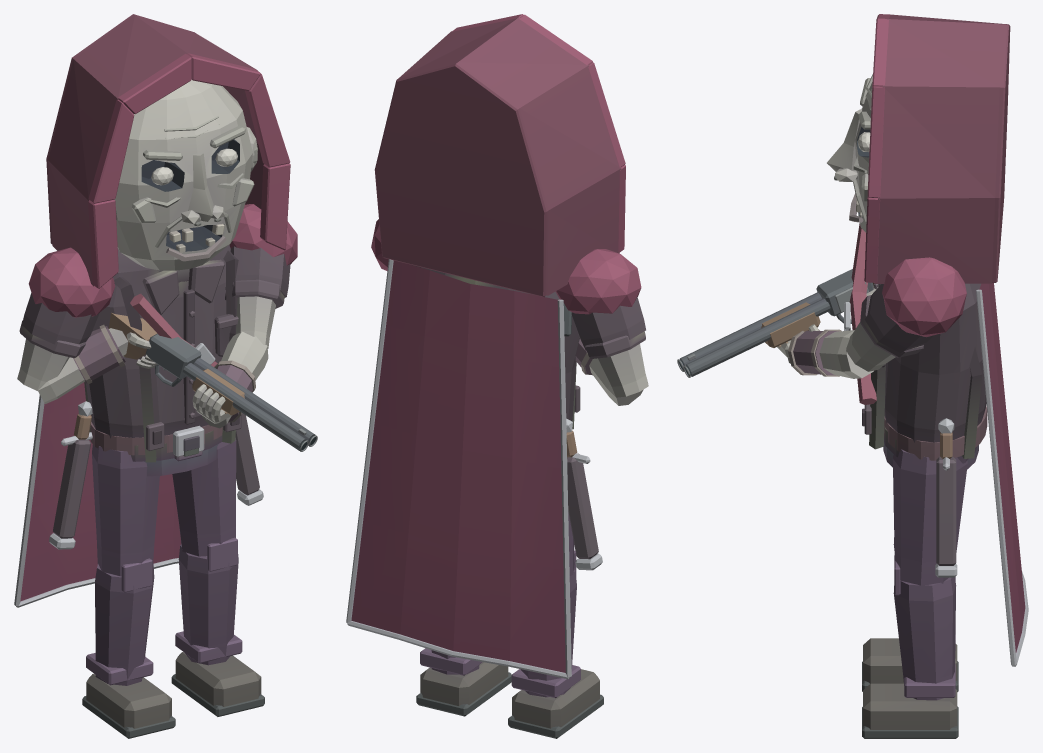
Rendered from GrandfatherAssassin.glb.
The picture shows the model from 3 angles, left to right: view 1: azimuth 30°, elevation 25°; view 2: azimuth 150°, elevation 25°; view 3: azimuth 270°, elevation 25°; orthographic projection. The views are drawn at different scales.
Parts seen in each view (by area): view 1: Head, Body, LegR, LegL, ArmR, ArmL; view 2: Body, Head, ArmR, LegR, LegL; view 3: Head, Body, LegL, ArmL, LegR.
Part boxes in pixels (x1,y1,x2,y2): Head: (46, 14, 290, 288); Body: (14, 245, 317, 607); LegR: (82, 445, 175, 738); LegL: (171, 437, 264, 716); ArmR: (17, 247, 157, 403); ArmL: (192, 204, 297, 428); Body: (346, 259, 602, 678); Head: (374, 14, 625, 297); ArmR: (555, 249, 648, 405); LegR: (508, 512, 603, 738); LegL: (416, 648, 511, 716); Head: (827, 14, 1010, 283); Body: (677, 223, 1028, 666); LegL: (862, 449, 967, 738); ArmL: (777, 257, 966, 378); LegR: (862, 537, 958, 691).
Bounding box in the file's own units: 2.76 × 6.51 × 3.02.
